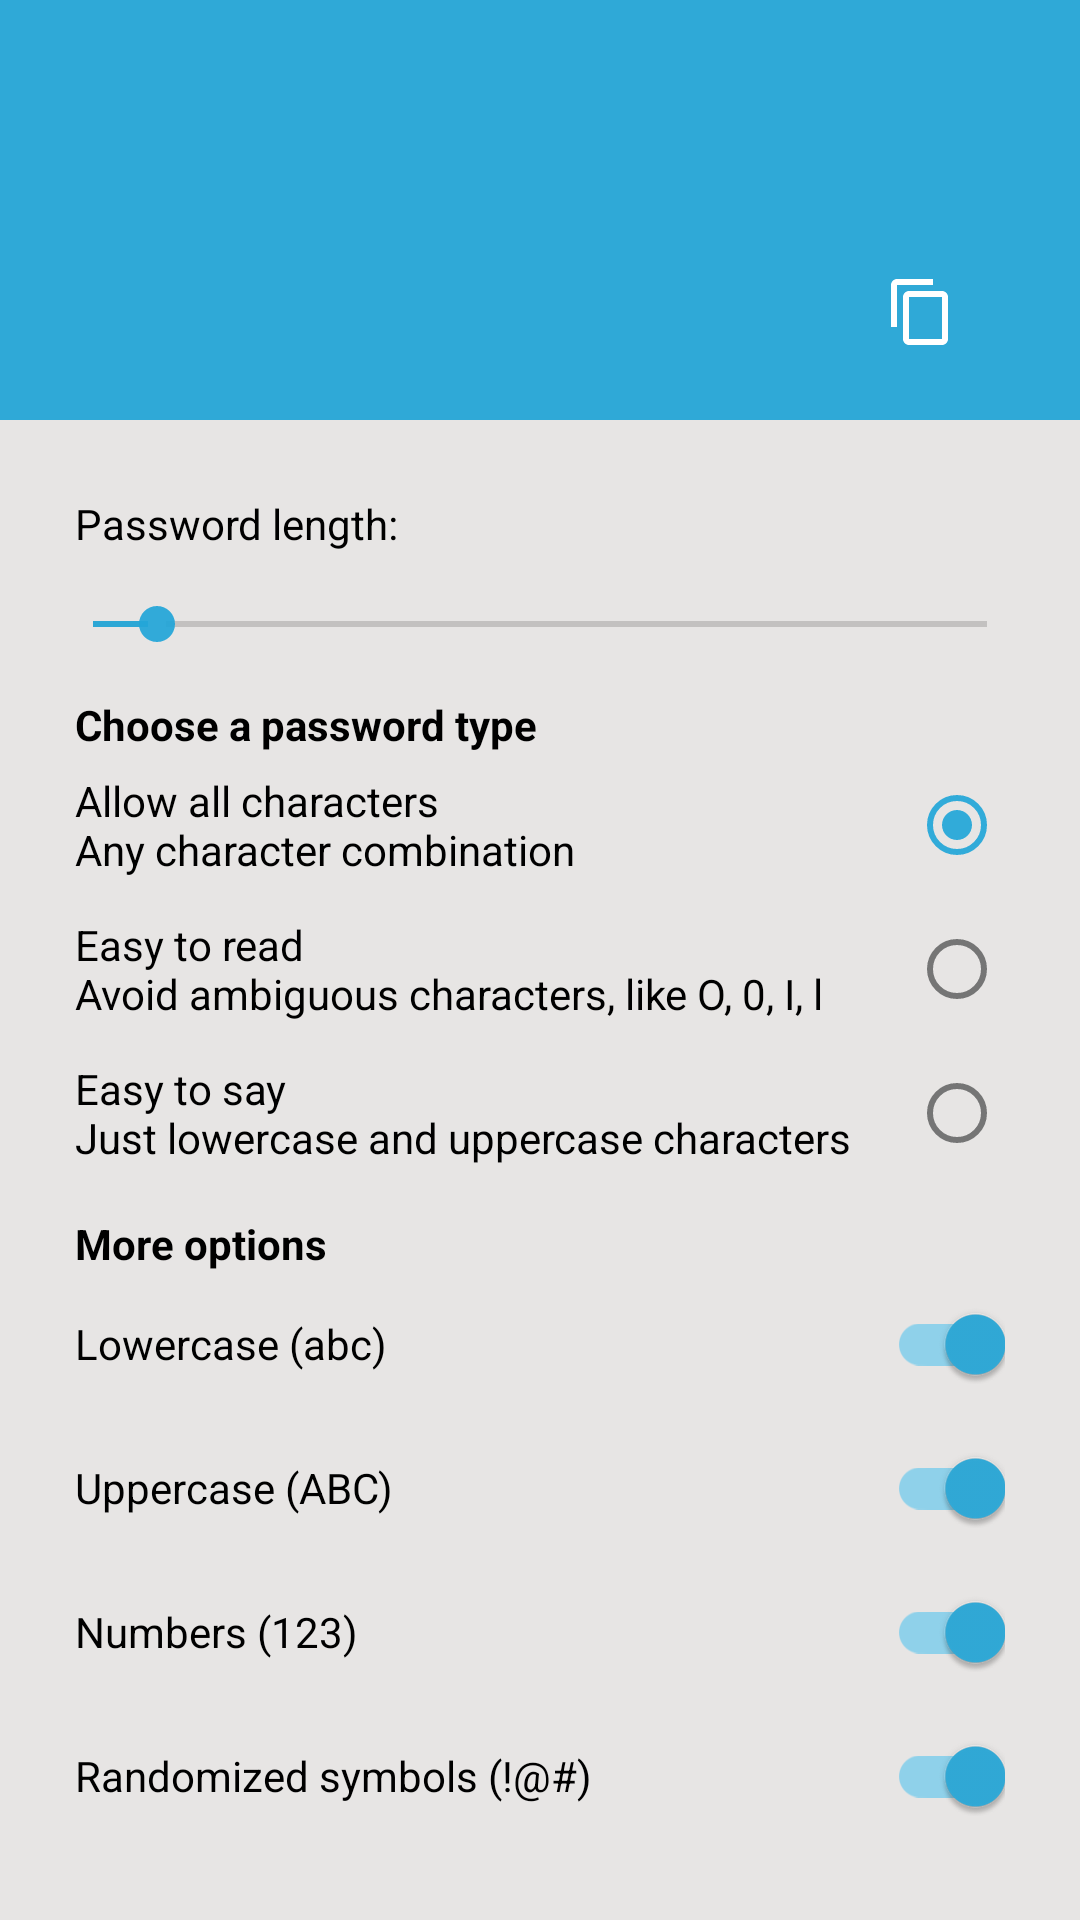

Named icons in this screenshot (1080px×1920px) and their centers, (x=x, y=y):
Copy Password: (x=919, y=312)
